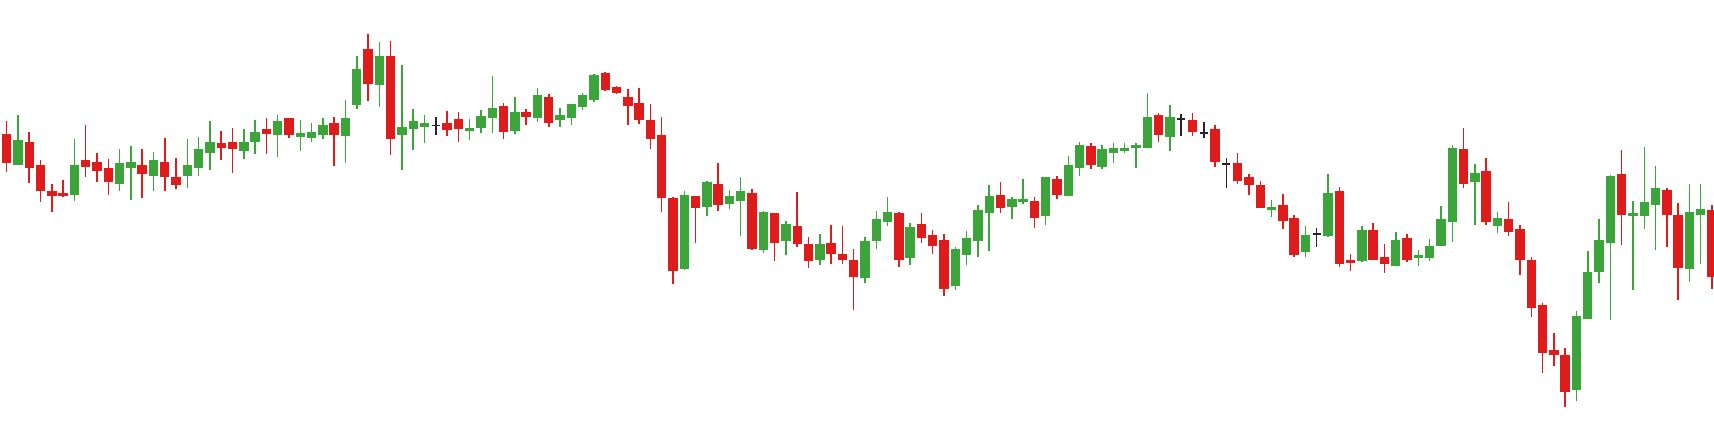buy: (1322, 130, 1470, 230), (893, 220, 960, 300)
